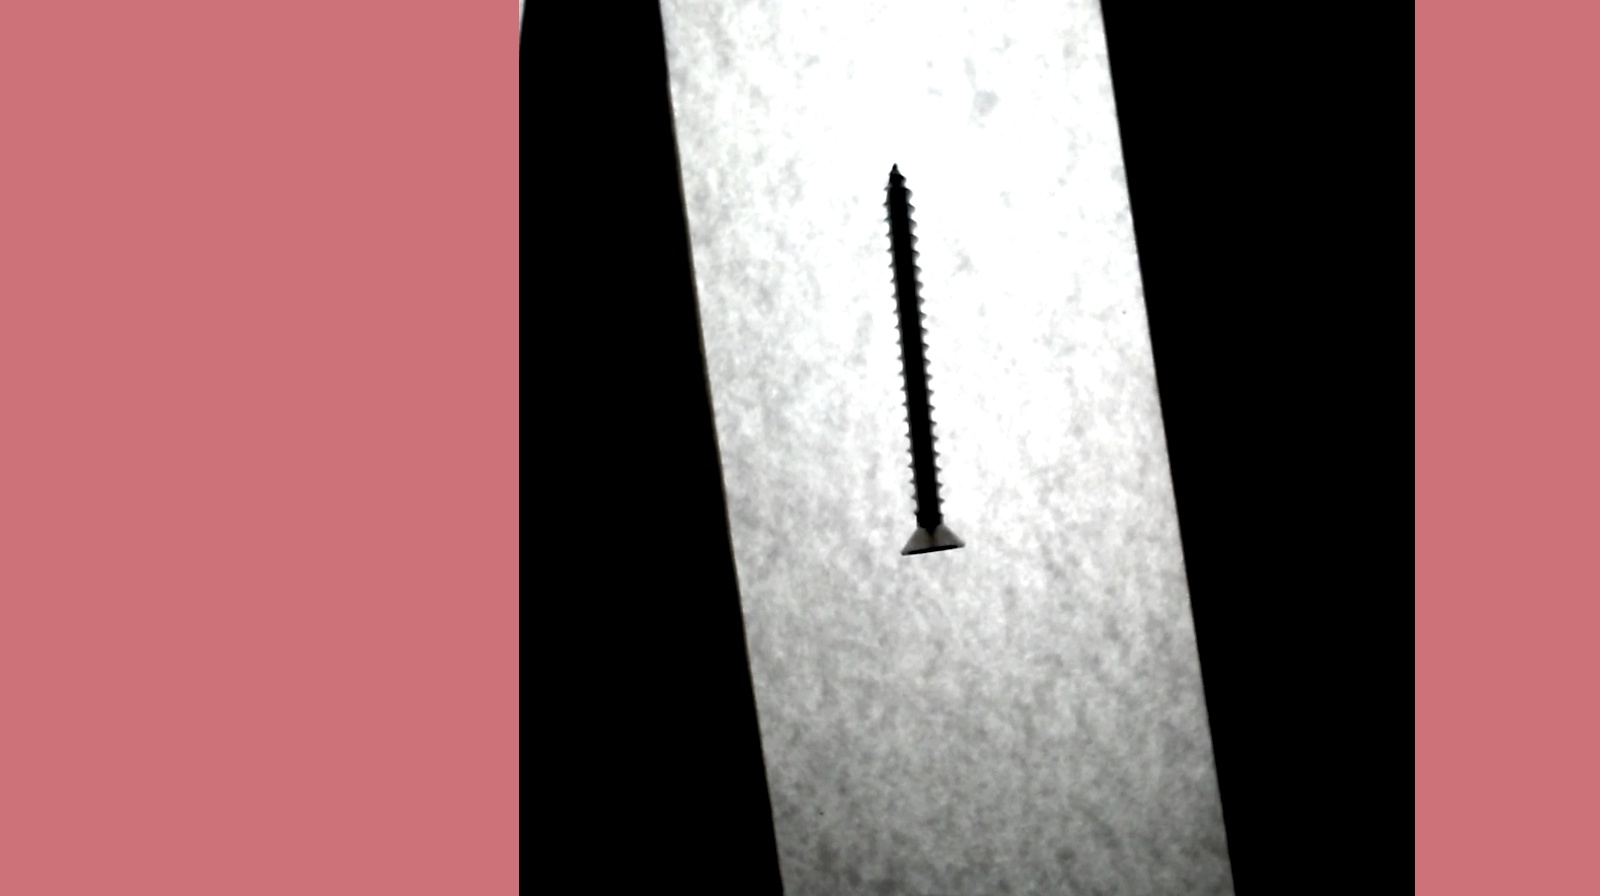S002: (870, 154, 964, 562)
